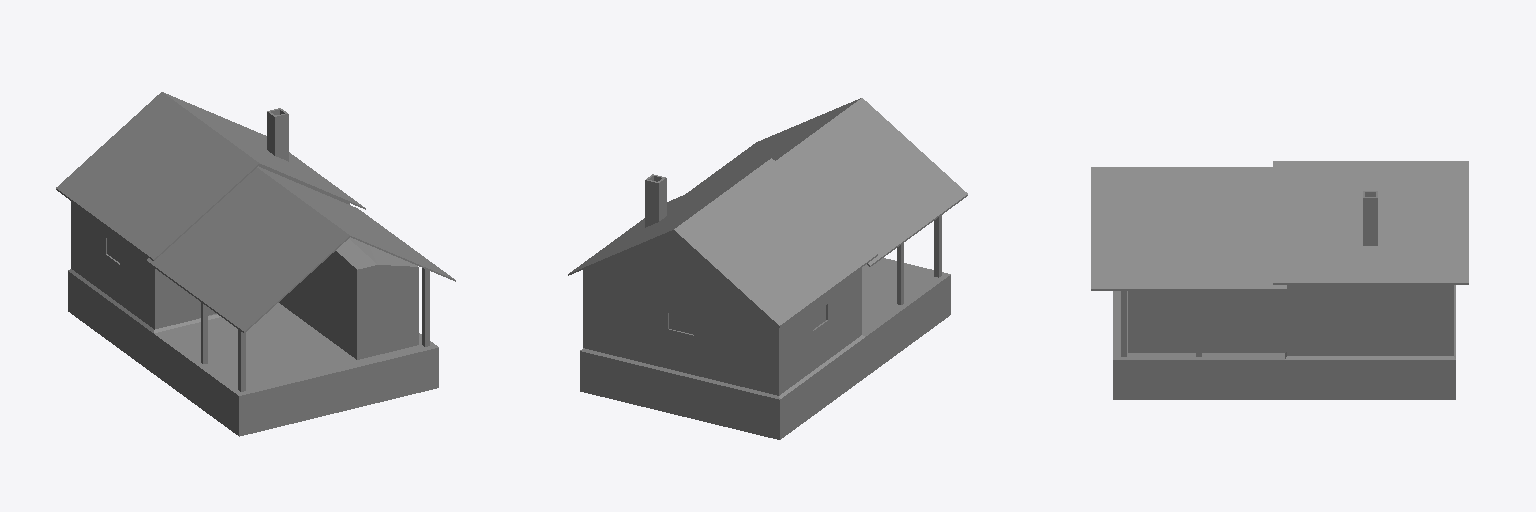
File: house_02.obj
3 renders of one model, left to right at view 1: azimuth 30°, elevation 25°; view 2: azimuth 150°, elevation 25°; view 3: azimuth 270°, elevation 25°, orthographic.
Visible parts, largest first — view 1: hut_01; view 2: hut_01; view 3: hut_01.
Boxes of the visible parts, x1=… form: hut_01: x1=56, y1=92, x2=455, y2=436; hut_01: x1=568, y1=98, x2=967, y2=439; hut_01: x1=1091, y1=161, x2=1468, y2=399.
Size of the model in its own units: 6.5 by 5.59 by 10.02.